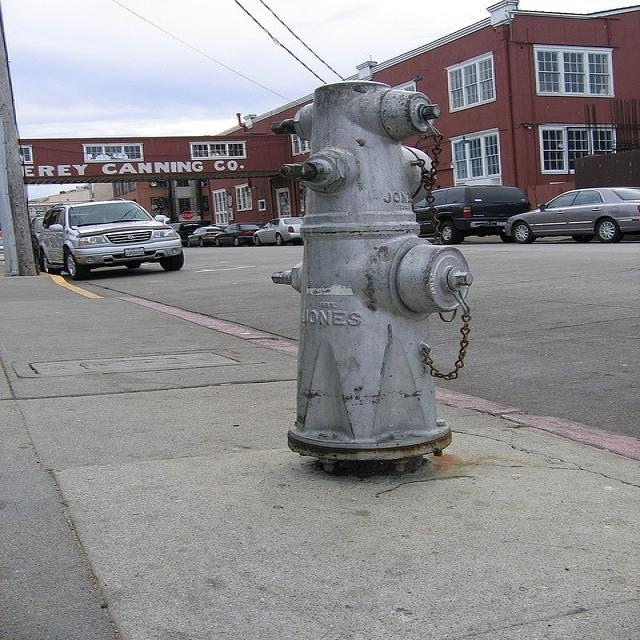fire_hydrant: (194, 52, 627, 564)
